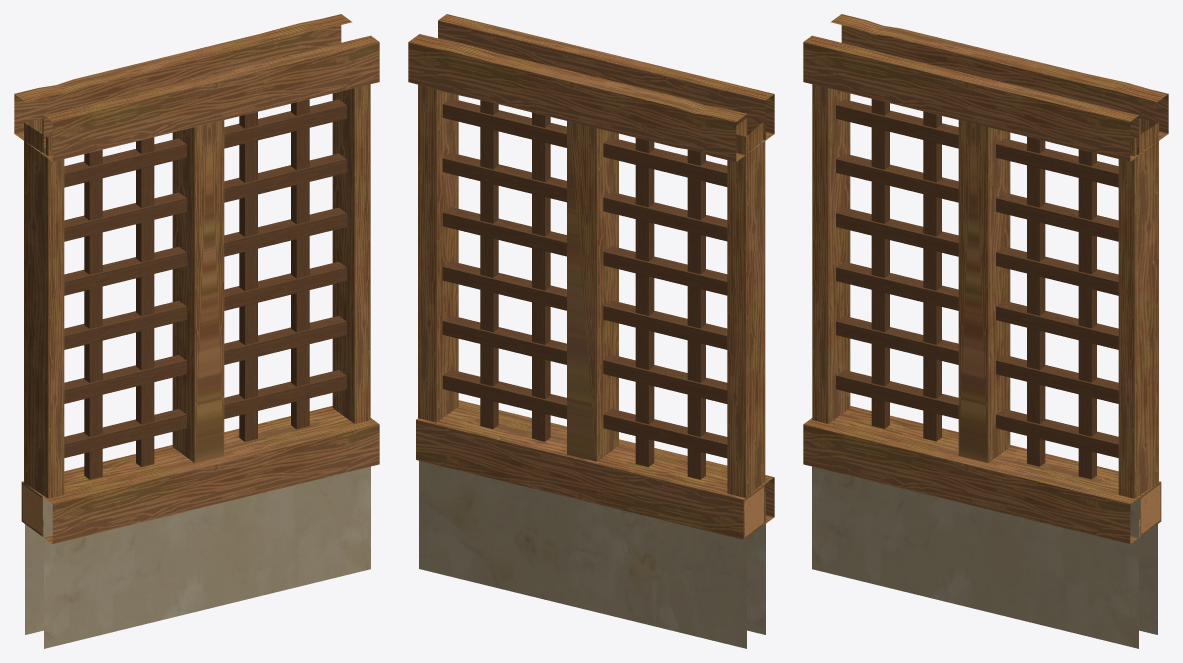
File: Wall_Plaster_WoodGrid.glb
3 views of the same model, side by side, from view 1: azimuth 30°, elevation 25°; view 2: azimuth 150°, elevation 25°; view 3: azimuth 330°, elevation 25° (orthographic).
Visible parts, largest first — view 1: Wall_Plaster_WoodGrid; view 2: Wall_Plaster_WoodGrid; view 3: Wall_Plaster_WoodGrid.
Boxes of the visible parts, x1,y1,x2,y2 form: Wall_Plaster_WoodGrid: (14,14,379,648); Wall_Plaster_WoodGrid: (408,14,774,648); Wall_Plaster_WoodGrid: (803,14,1168,648).
Size of the model in its own units: 2 by 3.12 by 0.4064.
Materials: 2 (2 with a texture image).
